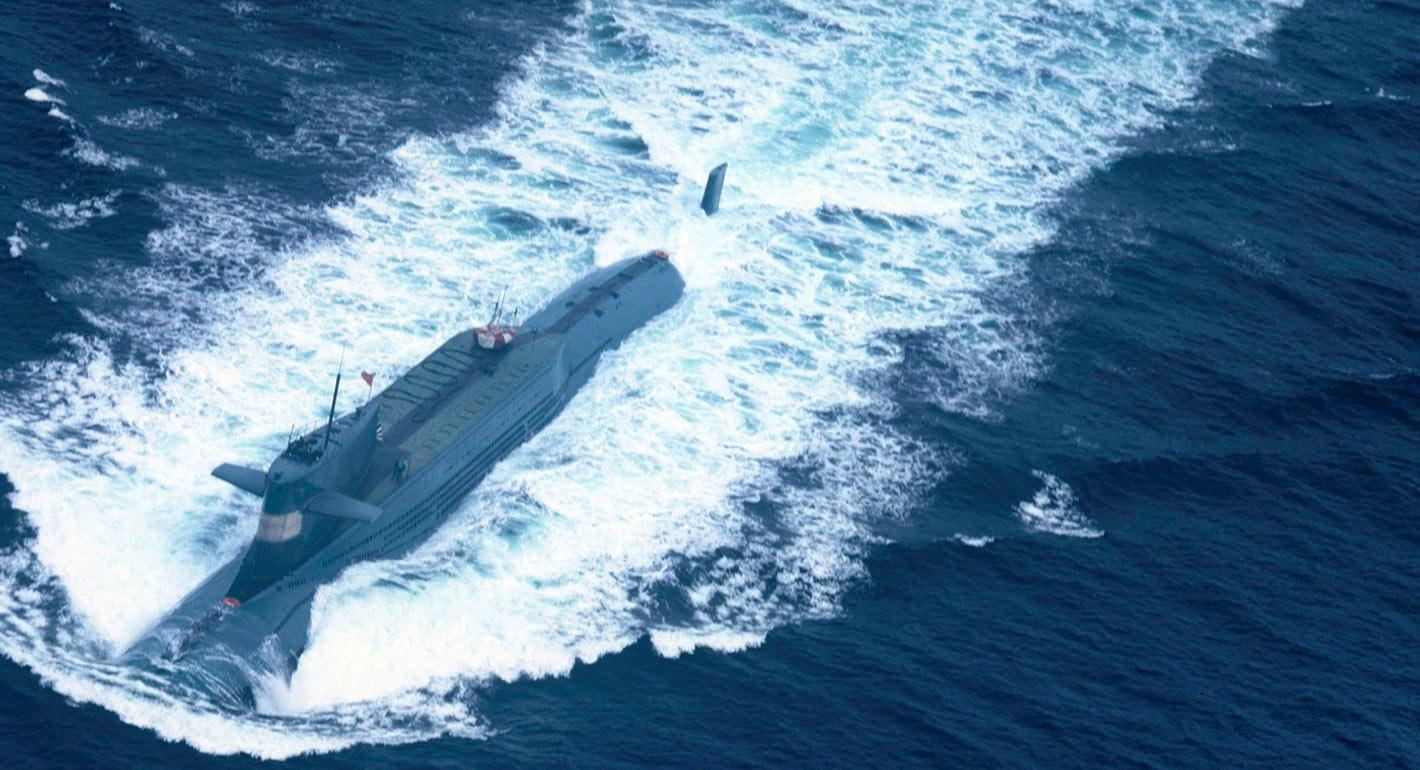Submarine: (62, 120, 974, 752)
